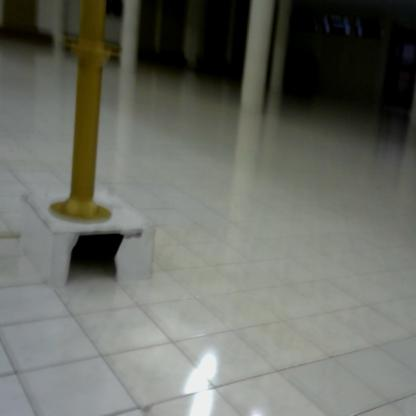pole: (46, 1, 129, 225)
